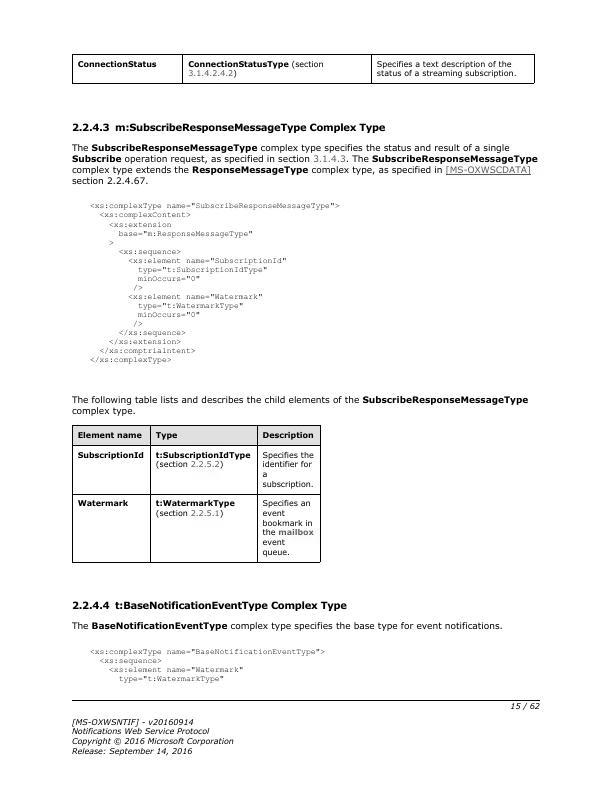table: (70, 423, 324, 566), (70, 52, 538, 88)
text: (86, 200, 345, 363), (70, 142, 542, 185), (67, 391, 533, 416), (85, 644, 329, 684), (66, 715, 238, 757), (68, 620, 502, 634), (66, 121, 391, 137), (67, 599, 349, 616)
